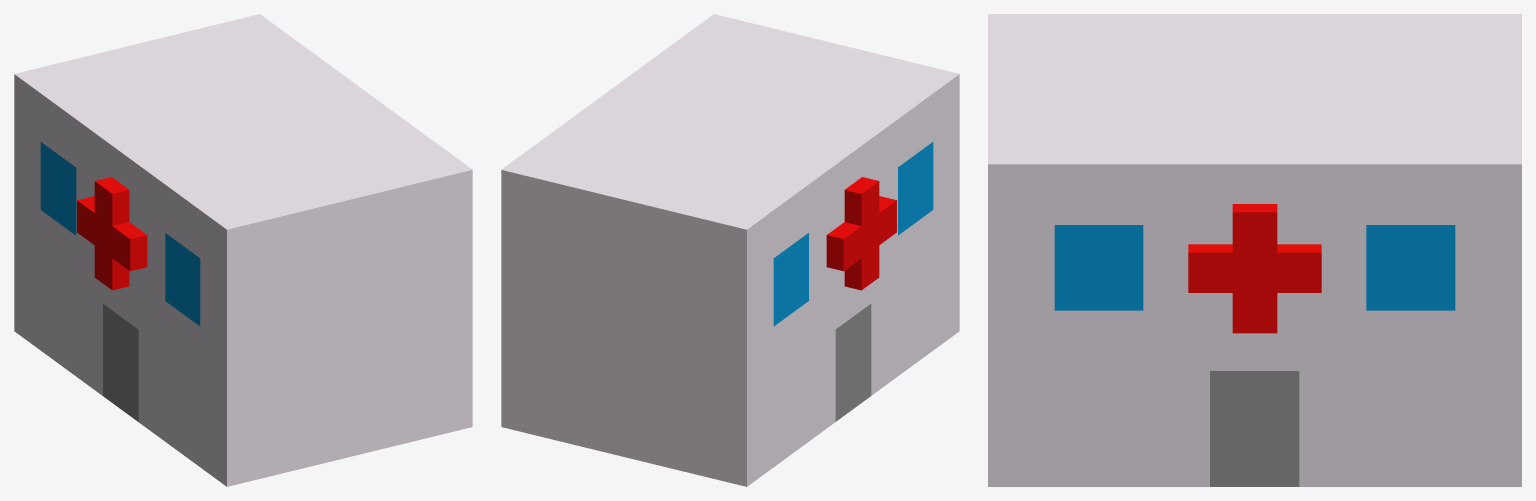
Rendered from hopital.fbx.
3 views of the same model, side by side, from view 1: azimuth 30°, elevation 25°; view 2: azimuth 150°, elevation 25°; view 3: azimuth 270°, elevation 25° (orthographic). The views are drawn at different scales.
Visible parts, largest first — view 1: Cube; view 2: Cube; view 3: Cube.
Part boxes in pixels (x1,y1,x2,y2): Cube: (14,14,472,486); Cube: (501,14,959,486); Cube: (988,14,1521,486).
Size of the model in its own units: 9 by 8 by 12.
Materials: 1 (1 with a texture image).
